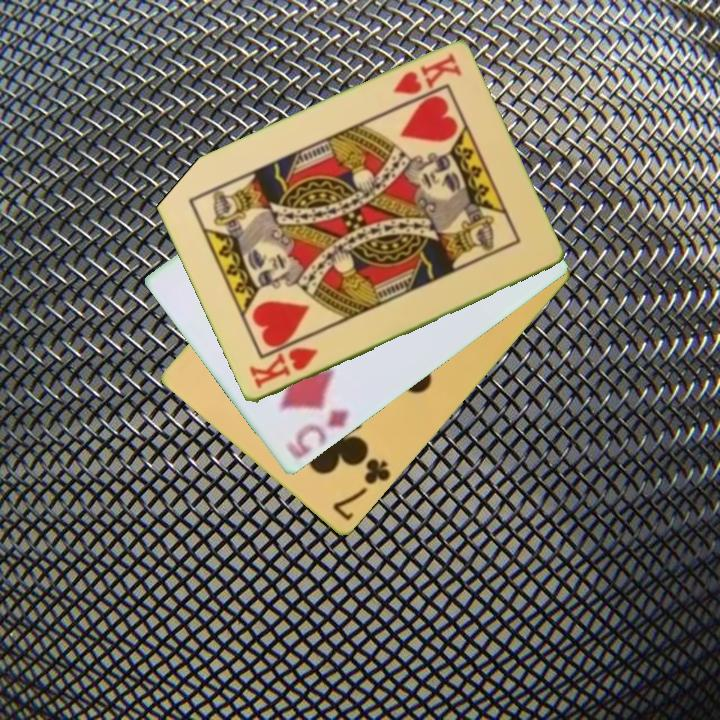5d: (281, 406, 353, 463)
7c: (329, 455, 394, 525)
Kh: (389, 49, 465, 99), (245, 344, 321, 393)
